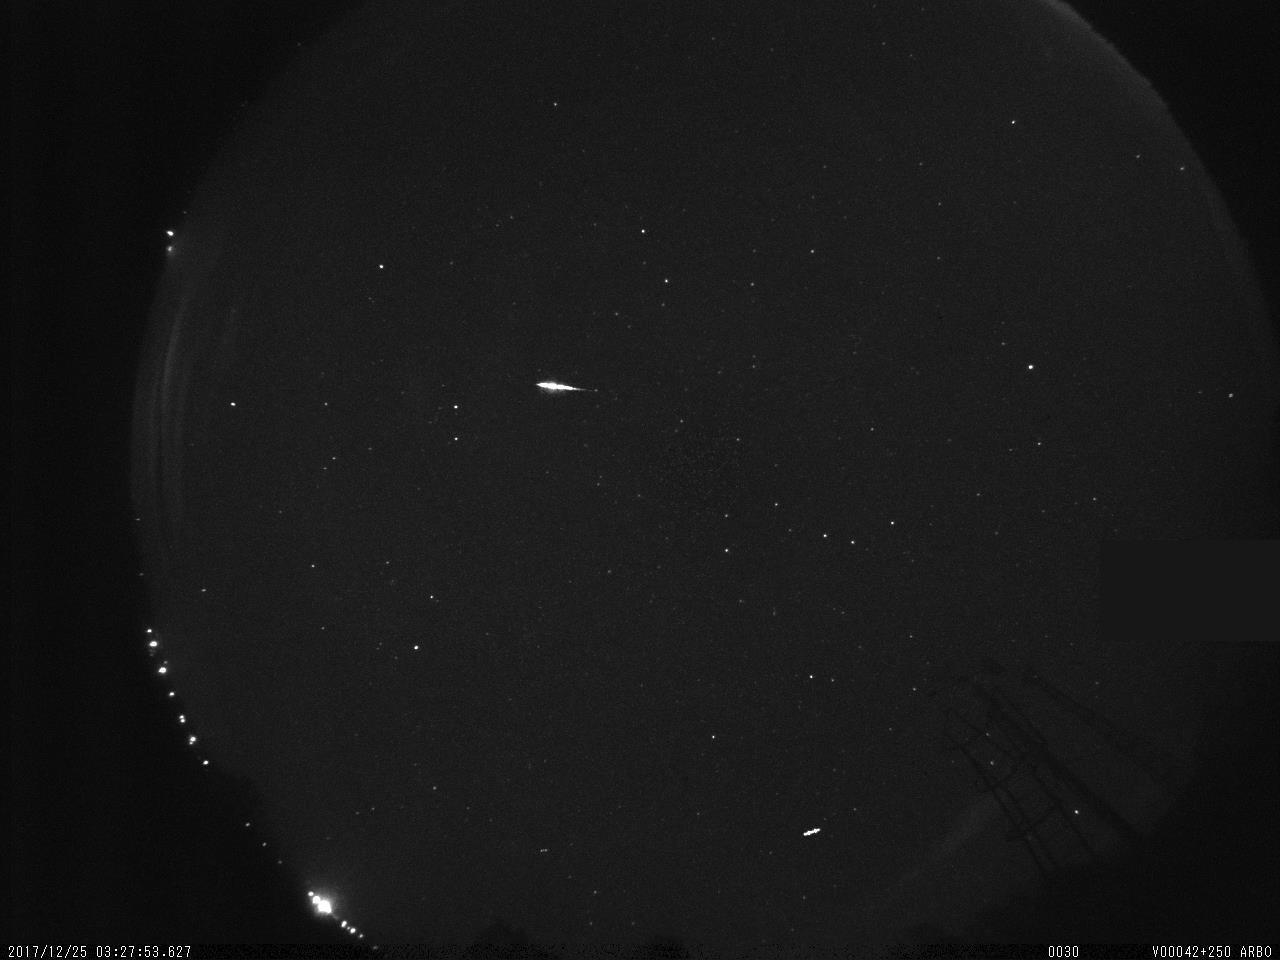Meteor: (534, 378, 598, 395)
